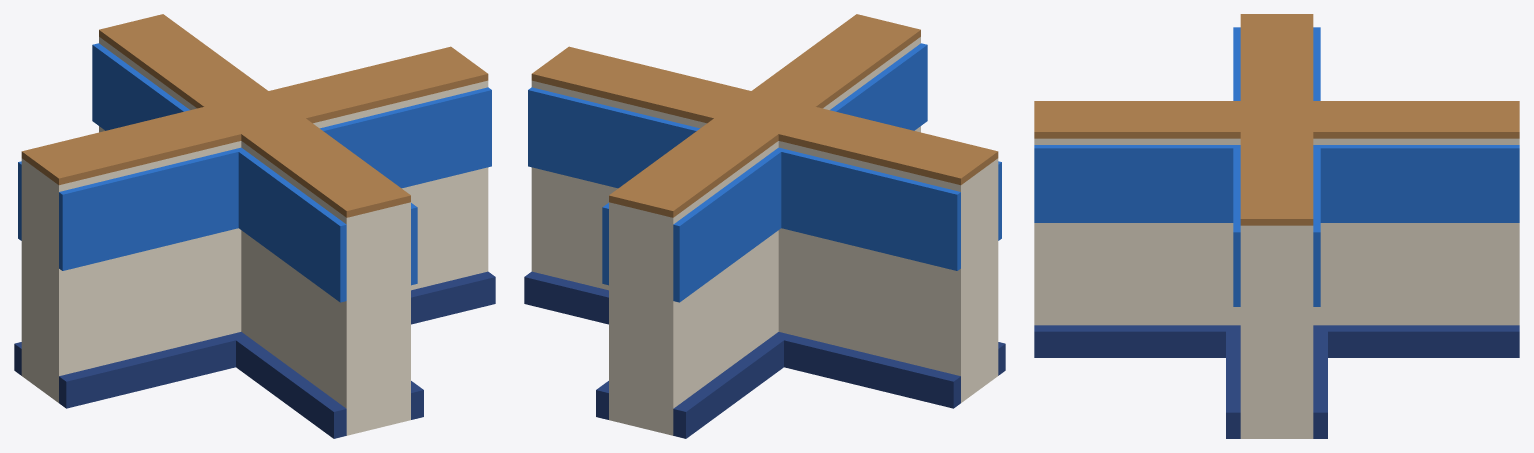
Rendered from partition-cross.glb.
The picture shows the model from 3 angles, left to right: view 1: azimuth 30°, elevation 25°; view 2: azimuth 150°, elevation 25°; view 3: azimuth 270°, elevation 25°; orthographic projection. The views are drawn at different scales.
Visible parts, largest first — view 1: partition-cross; view 2: partition-cross; view 3: partition-cross.
Boxes of the visible parts, left/top/right/bottom form: partition-cross: left=14, top=14, right=495, bottom=438; partition-cross: left=524, top=14, right=1005, bottom=438; partition-cross: left=1034, top=14, right=1519, bottom=438.
Size of the model in its own units: 1 by 0.5 by 1.
1 material, 1 textured.
